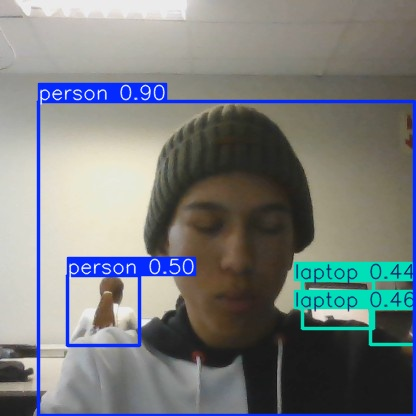laptop: (302, 281, 373, 328), (370, 309, 416, 345)
